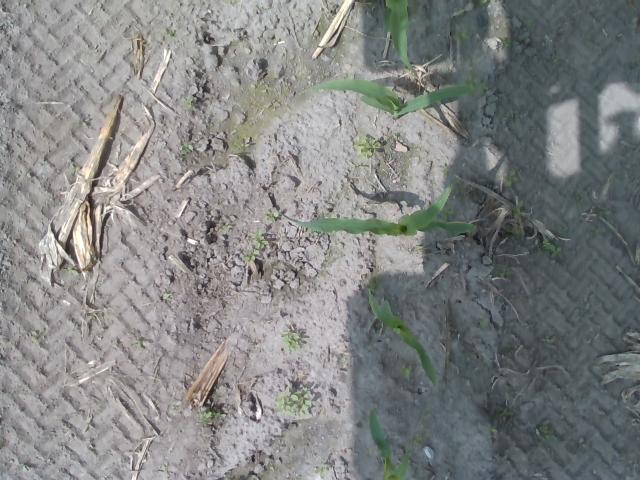Maize: (282, 184, 478, 238), (300, 78, 488, 122), (368, 286, 439, 386), (370, 407, 412, 480), (382, 0, 409, 65)
Weeds: (277, 384, 314, 416), (352, 134, 383, 158), (199, 410, 224, 428), (511, 206, 526, 236), (281, 332, 303, 352), (502, 168, 520, 192), (178, 143, 195, 161), (466, 72, 480, 92), (542, 241, 560, 254), (256, 231, 268, 250), (265, 208, 279, 224), (456, 30, 474, 42), (243, 249, 260, 261), (496, 267, 513, 277), (402, 366, 414, 380), (478, 316, 491, 328), (66, 265, 80, 276), (185, 99, 195, 110), (486, 426, 498, 434), (539, 426, 550, 434)
